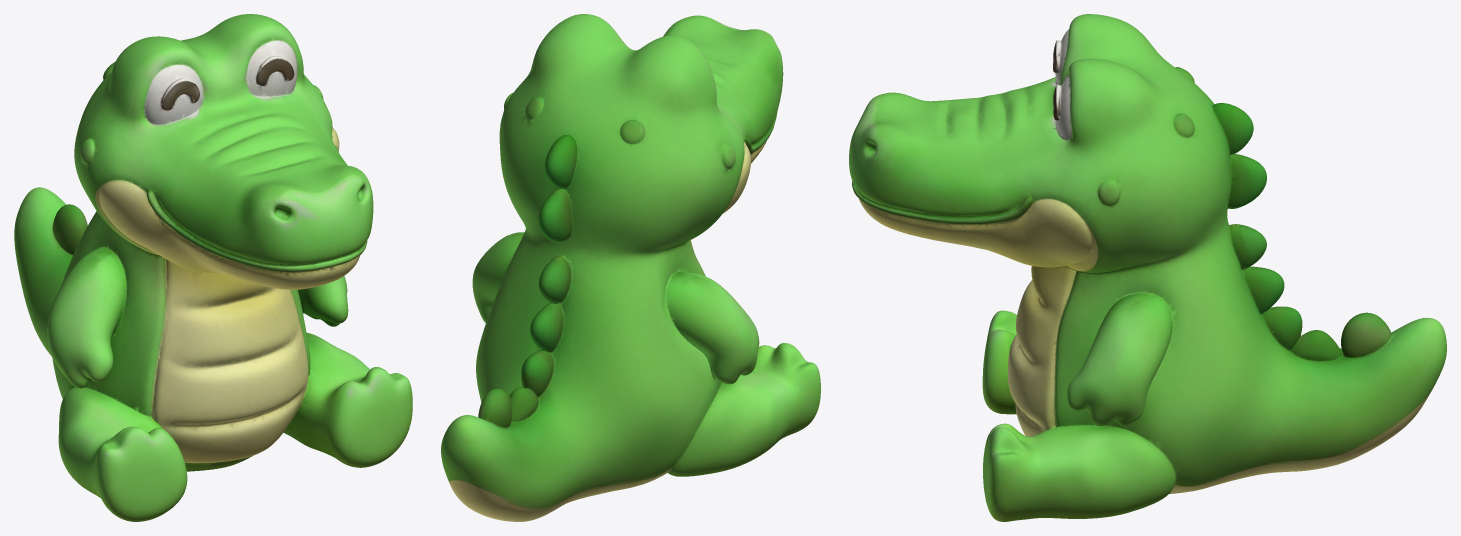
Rendered from Coccodrillo.glb.
3 views of the same model, side by side, from view 1: azimuth 30°, elevation 25°; view 2: azimuth 150°, elevation 25°; view 3: azimuth 270°, elevation 25° (orthographic). The views are drawn at different scales.
Bounding box in the file's own units: 1.13 × 1.48 × 1.9.
1 material, 1 textured.
